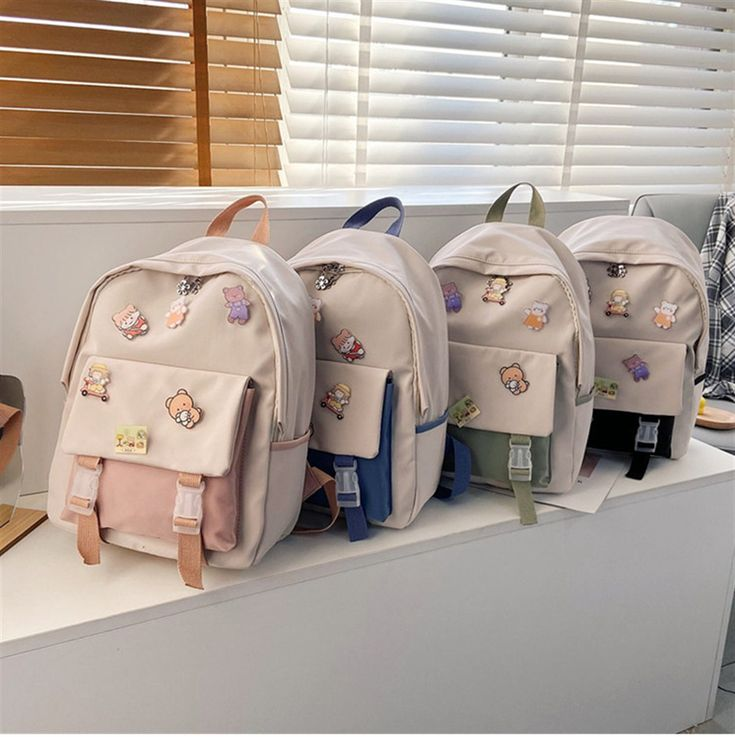nylon: (44, 182, 707, 591)
